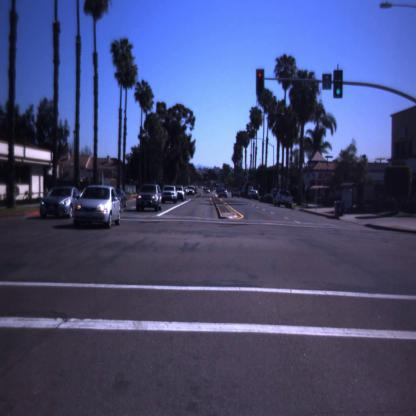trafficlight: (332, 68, 345, 100), (255, 64, 266, 99)
